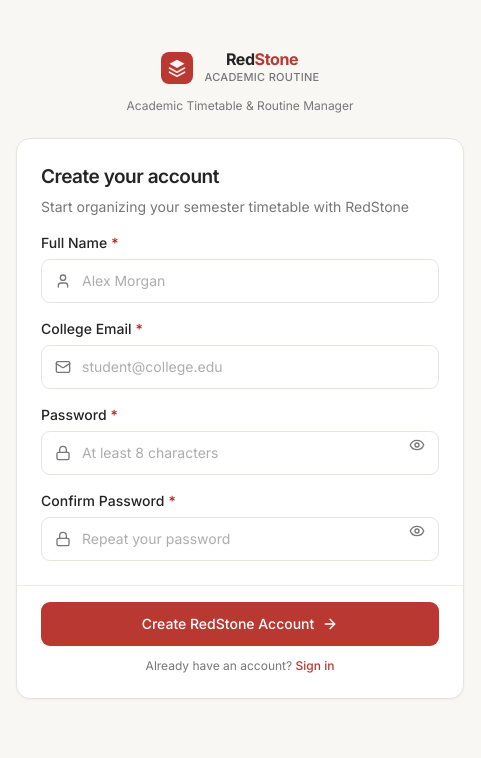
Test: RegisterPage — form validation › shows errors when submitting empty form
Click the button "Create RedStone Account". click: (240, 624)
box: [41, 602, 439, 646]
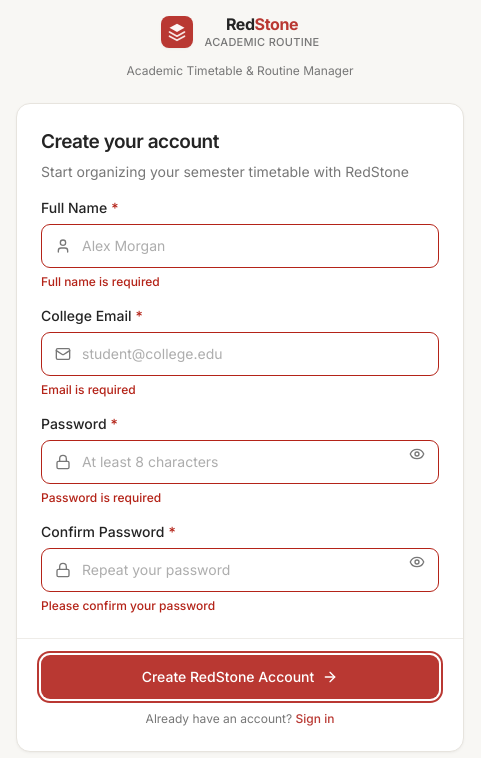
Result: the text "Full name is required" is shown at [41, 274, 160, 288]
Result: the text "Email is required" is shown at [41, 382, 136, 396]
Result: the text "Password is required" is shown at [41, 490, 161, 504]
